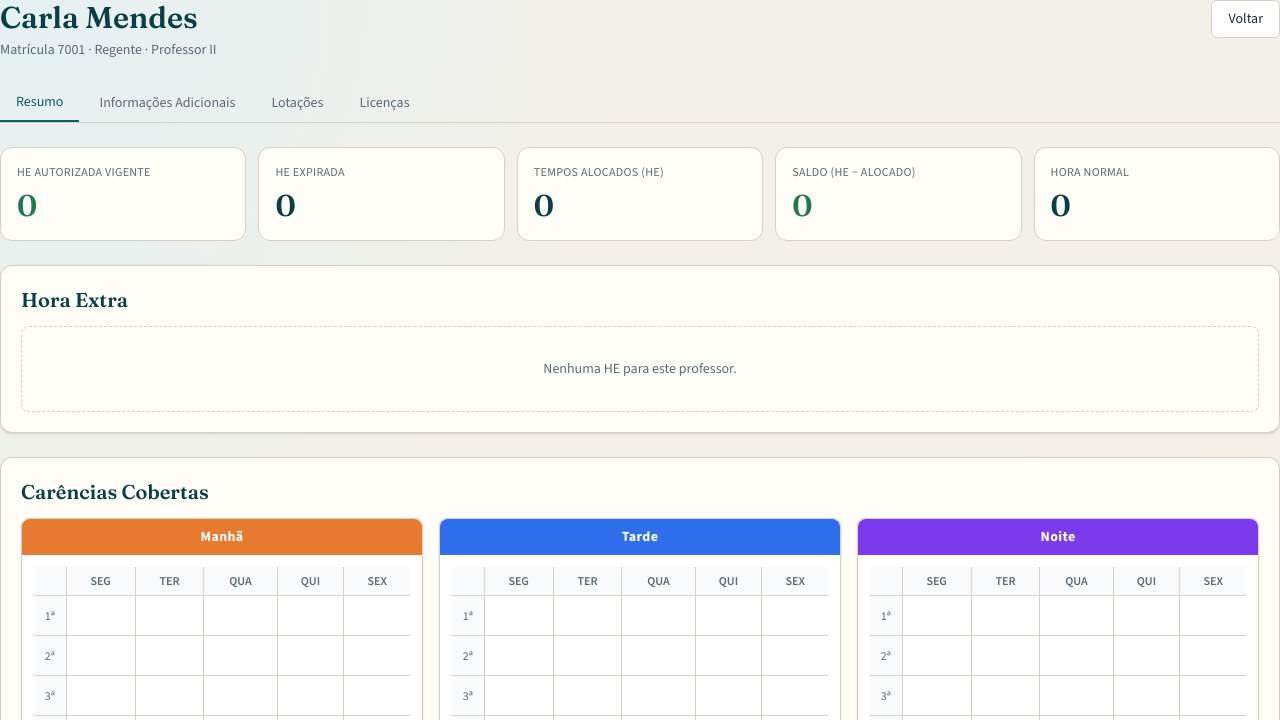
Test: Tela: Ficha do professor › navega para a aba de lotações
The width and height of the screenshot is (1280, 720).
Check: the heading "Carla Mendes" is shown, box 0,0 -> 198,36
Click the button "Lotações": click(297, 103) 255,84 -> 339,122
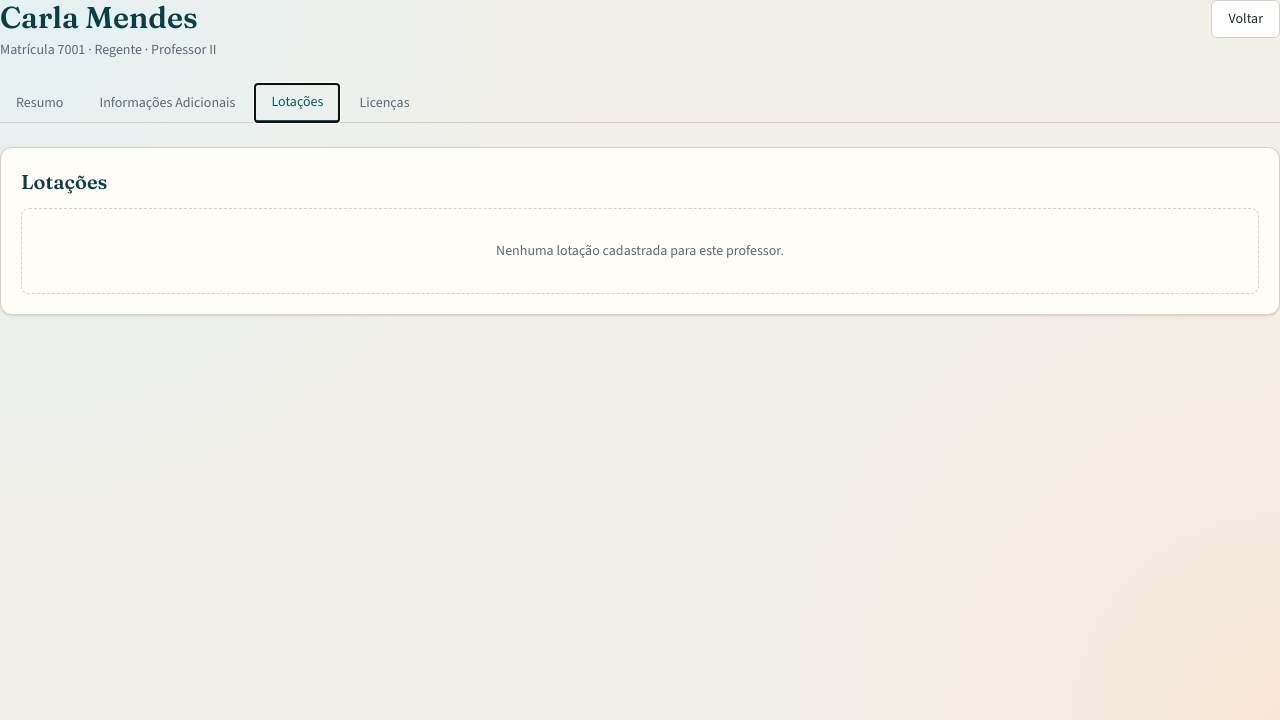
Check: the text "Nenhuma lotação cadastrada para este professor." is shown, box 21,208 -> 1259,294
